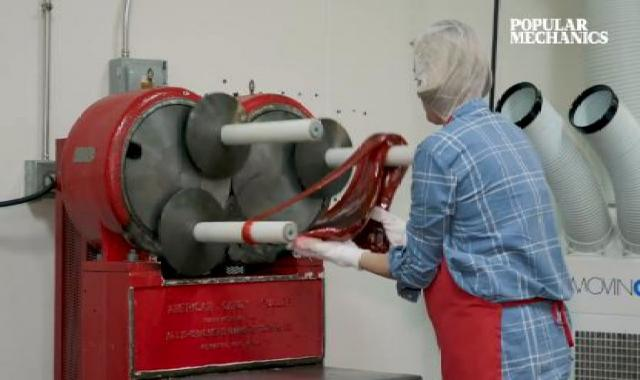hairnet: (412, 19, 498, 116)
